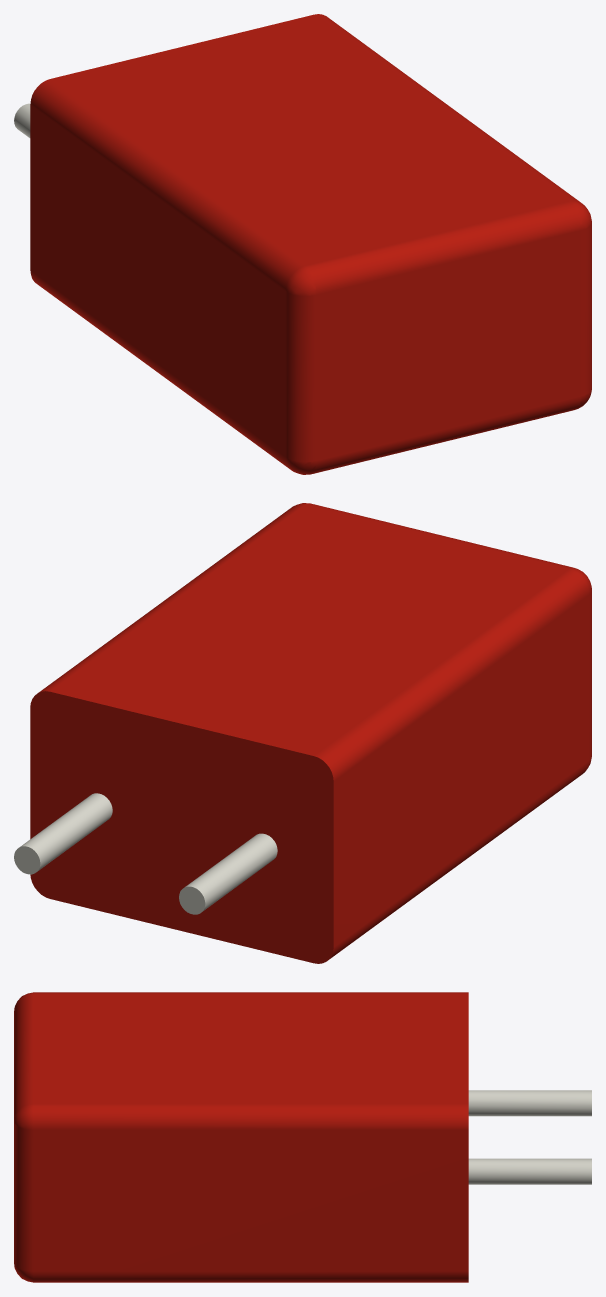
File: c-rect-l4.6-w3.0-p2.50-mks02-fkp02.glb
3 views of the same model, one above another, from view 1: azimuth 30°, elevation 25°; view 2: azimuth 150°, elevation 25°; view 3: azimuth 270°, elevation 25° (orthographic). The views are drawn at different scales.
Visible parts, largest first — view 1: RED-BODY; view 2: RED-BODY, PIN-01; view 3: RED-BODY, PIN-01.
Boxes of the visible parts, box(x1,y1,x2,y2) form: RED-BODY: box(30, 14, 591, 474); RED-BODY: box(30, 503, 591, 963); PIN-01: box(14, 793, 277, 914); RED-BODY: box(14, 992, 468, 1282); PIN-01: box(468, 1090, 591, 1184).
Bounding box in the file's own units: 4.6 × 3 × 8.9.
